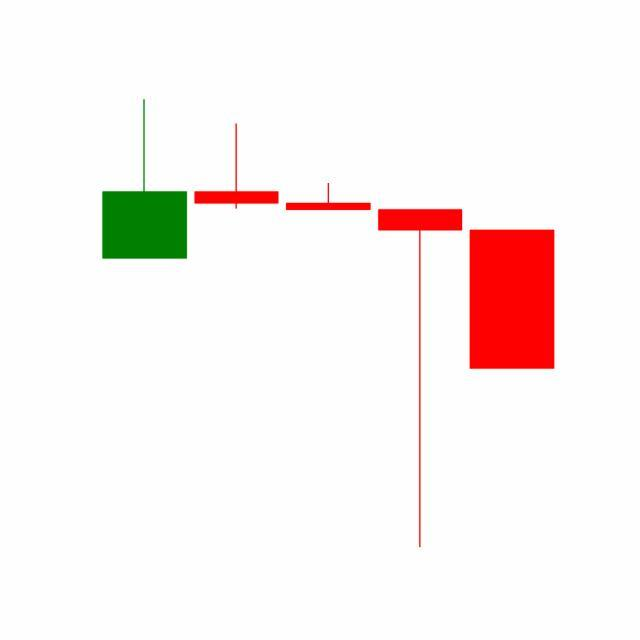Marubozu: (466, 229, 559, 371)
